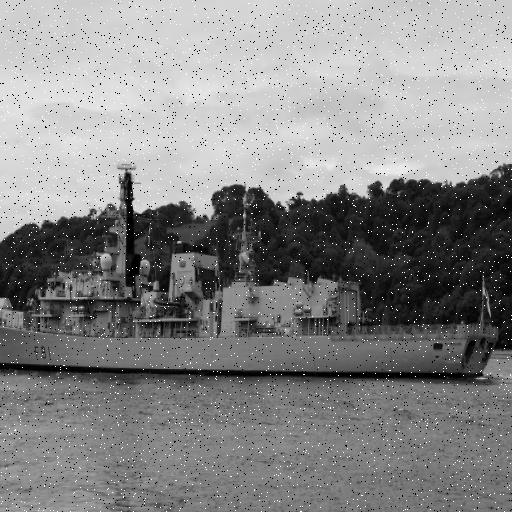Fragata: (1, 154, 498, 385)
